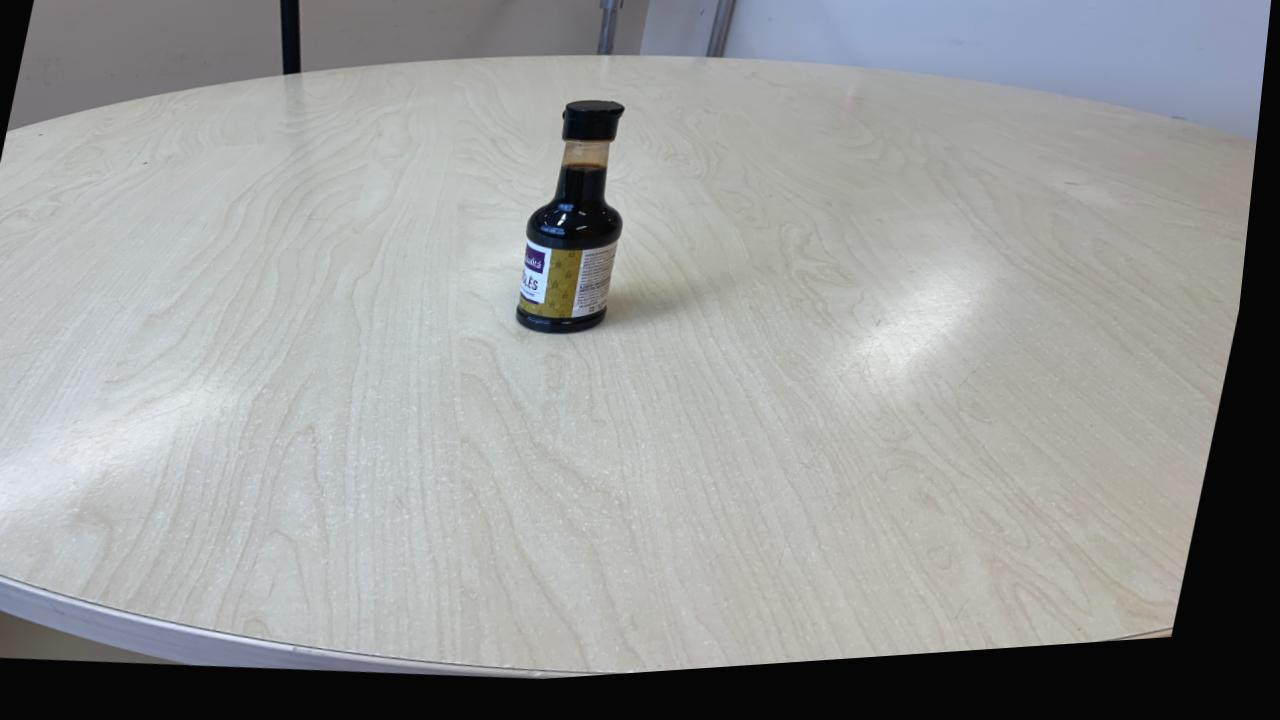English_Sauce-Pantry_Items: (523, 110, 629, 343)
